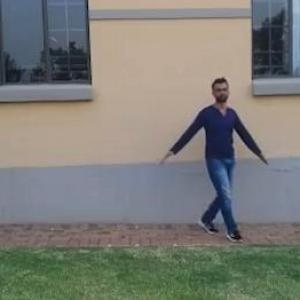land: (156, 82, 264, 248)
